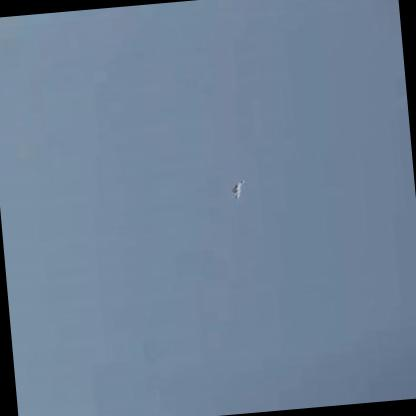plane: (231, 181, 245, 204)
